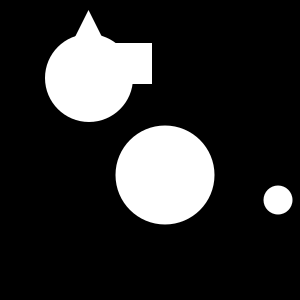circle: (111, 43, 152, 84)
rectangle: (116, 126, 215, 225), (45, 34, 133, 122), (264, 186, 292, 214)
triangle: (63, 10, 114, 61)
